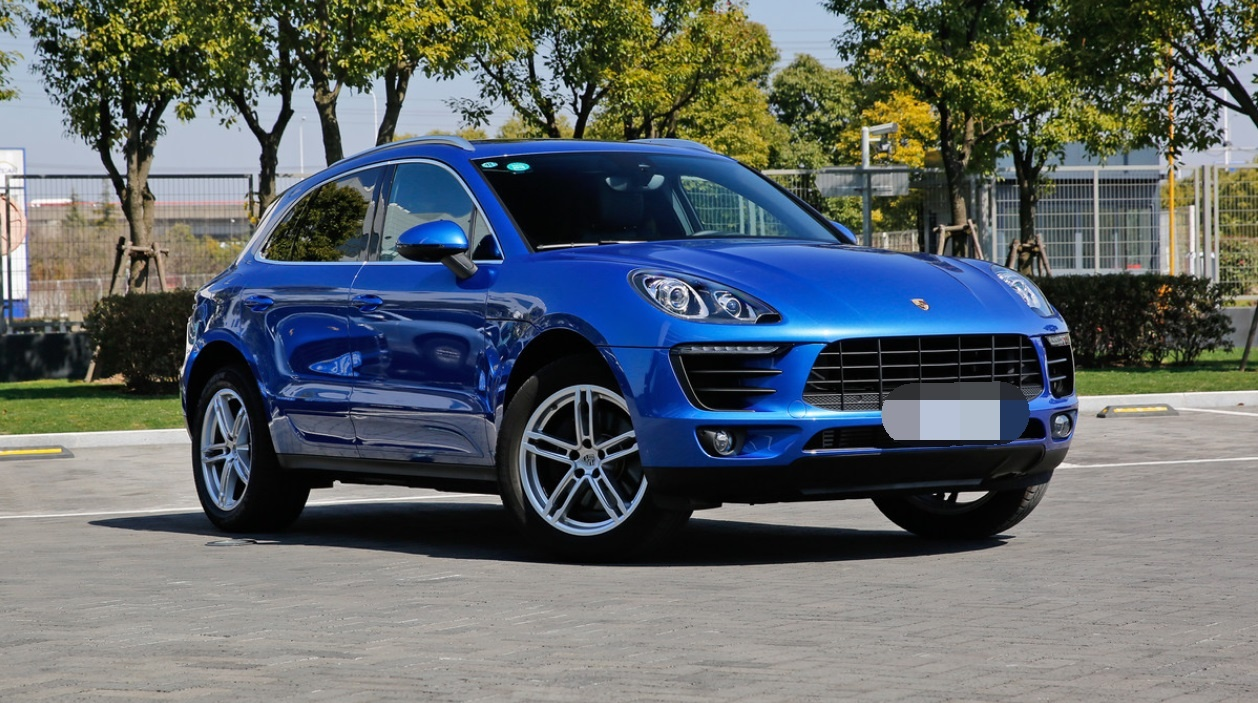SUV: (185, 137, 1066, 551)
